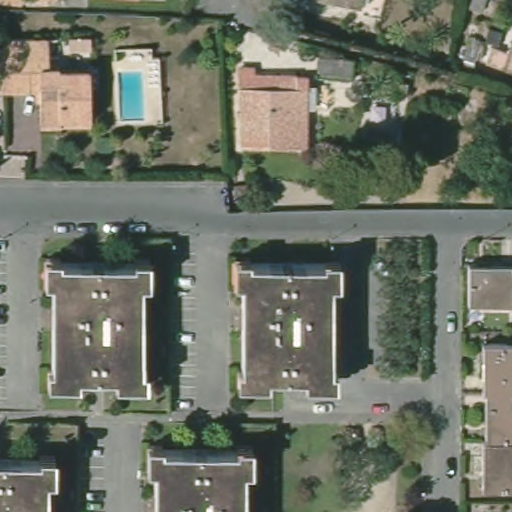pool: (117, 66, 152, 123)
